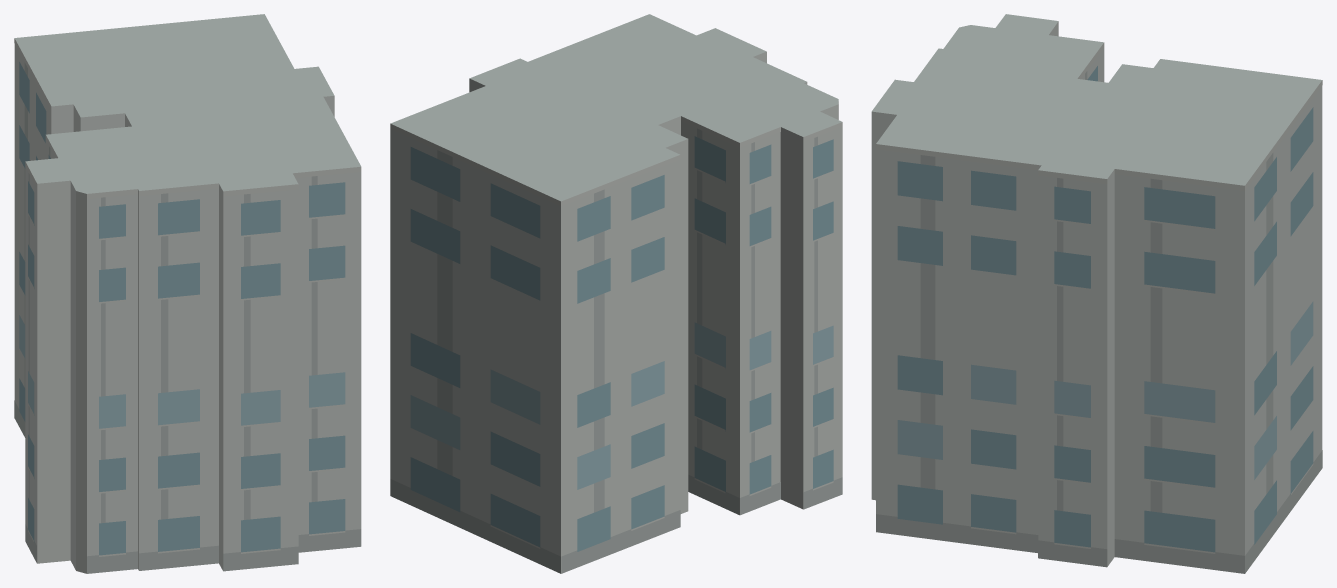
The model's file is survey-upis-32633040.glb.
The picture shows the model from 3 angles, left to right: view 1: azimuth 30°, elevation 25°; view 2: azimuth 150°, elevation 25°; view 3: azimuth 270°, elevation 25°; orthographic projection. The views are drawn at different scales.
Visible parts, largest first — view 1: survey-upis-32633040.tmp; view 2: survey-upis-32633040.tmp; view 3: survey-upis-32633040.tmp.
Boxes of the visible parts, box(x1,y1,x2,y2) form: survey-upis-32633040.tmp: box(14, 14, 361, 573); survey-upis-32633040.tmp: box(390, 14, 842, 573); survey-upis-32633040.tmp: box(871, 14, 1322, 573).
Size of the model in its own units: 17.38 by 18.3 by 19.28.
